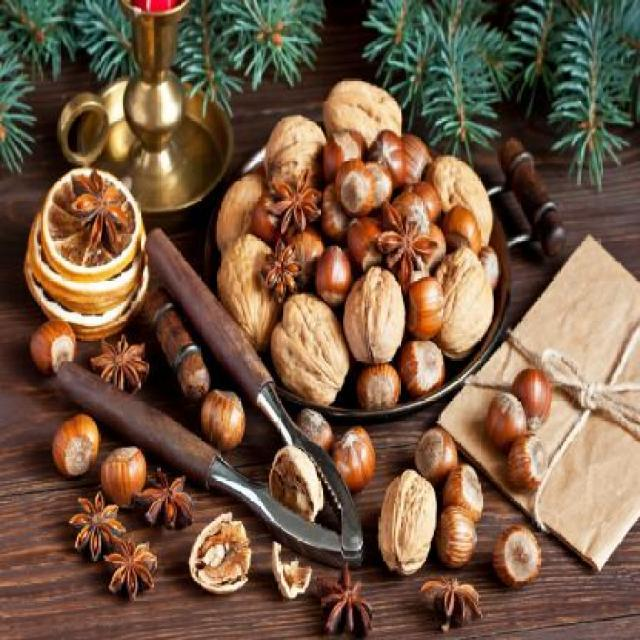Frutta secca: (422, 435, 488, 563), (274, 290, 350, 392), (493, 382, 553, 490), (380, 472, 434, 568), (343, 272, 400, 352), (337, 160, 375, 212)
